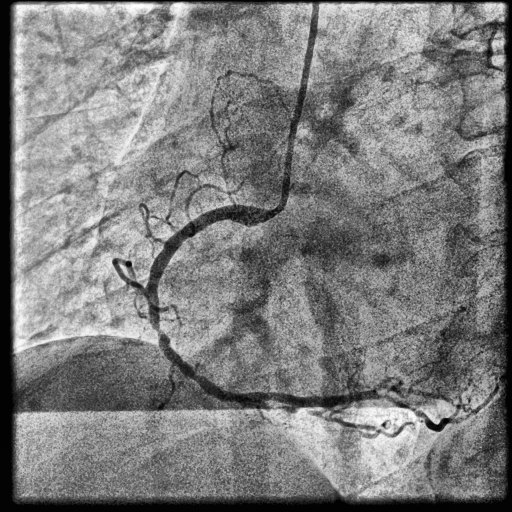pborca: (303, 384, 401, 408)
pda: (301, 408, 414, 438)
rca: (145, 205, 304, 410)
